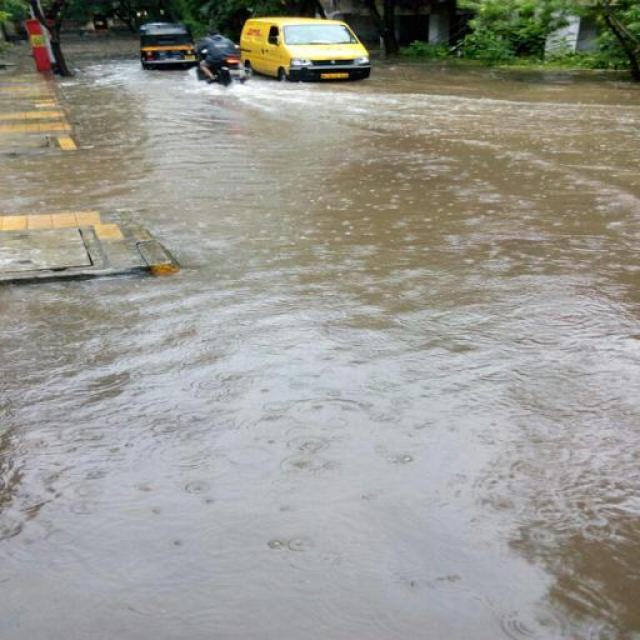puddle: (4, 287, 640, 638), (163, 83, 640, 338)
